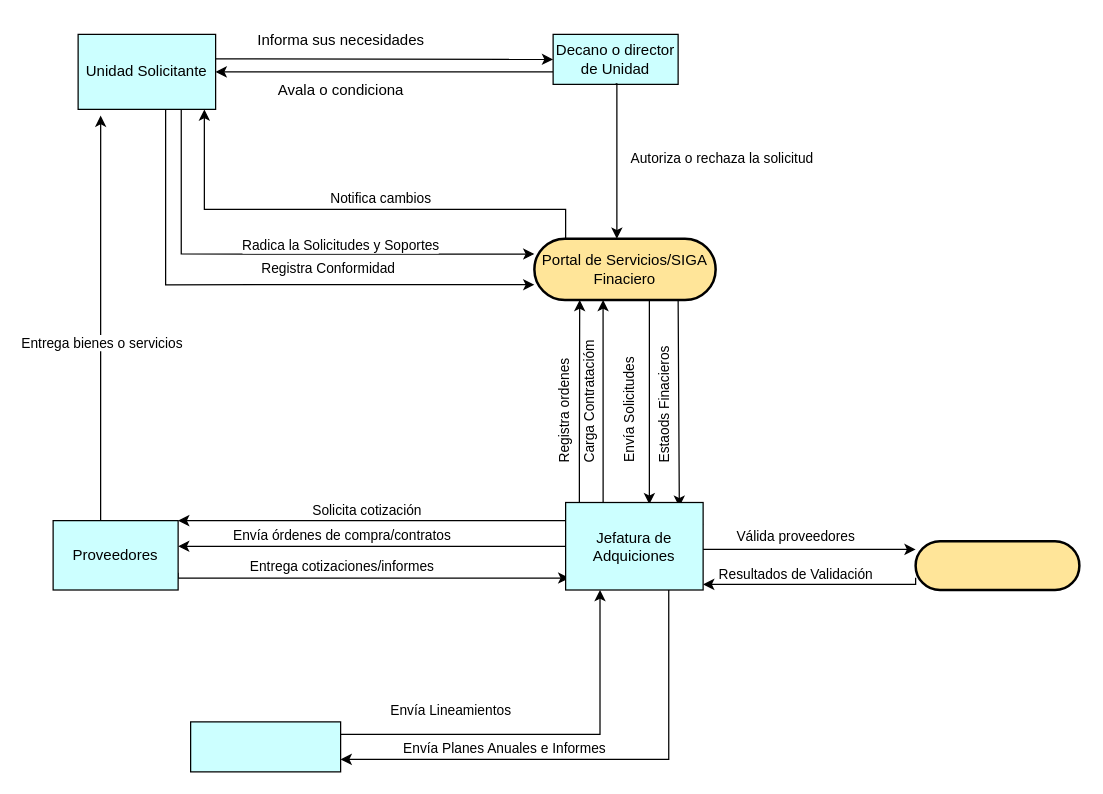
This 1103x794 diagram has some shape labels left out. Here are the shapes that lost their labels. From the top down, the box of each, then its label:
(914, 539, 1080, 591): INSPEKTOR
(189, 721, 341, 772): Comité/Subcomición de Adquisiciones
